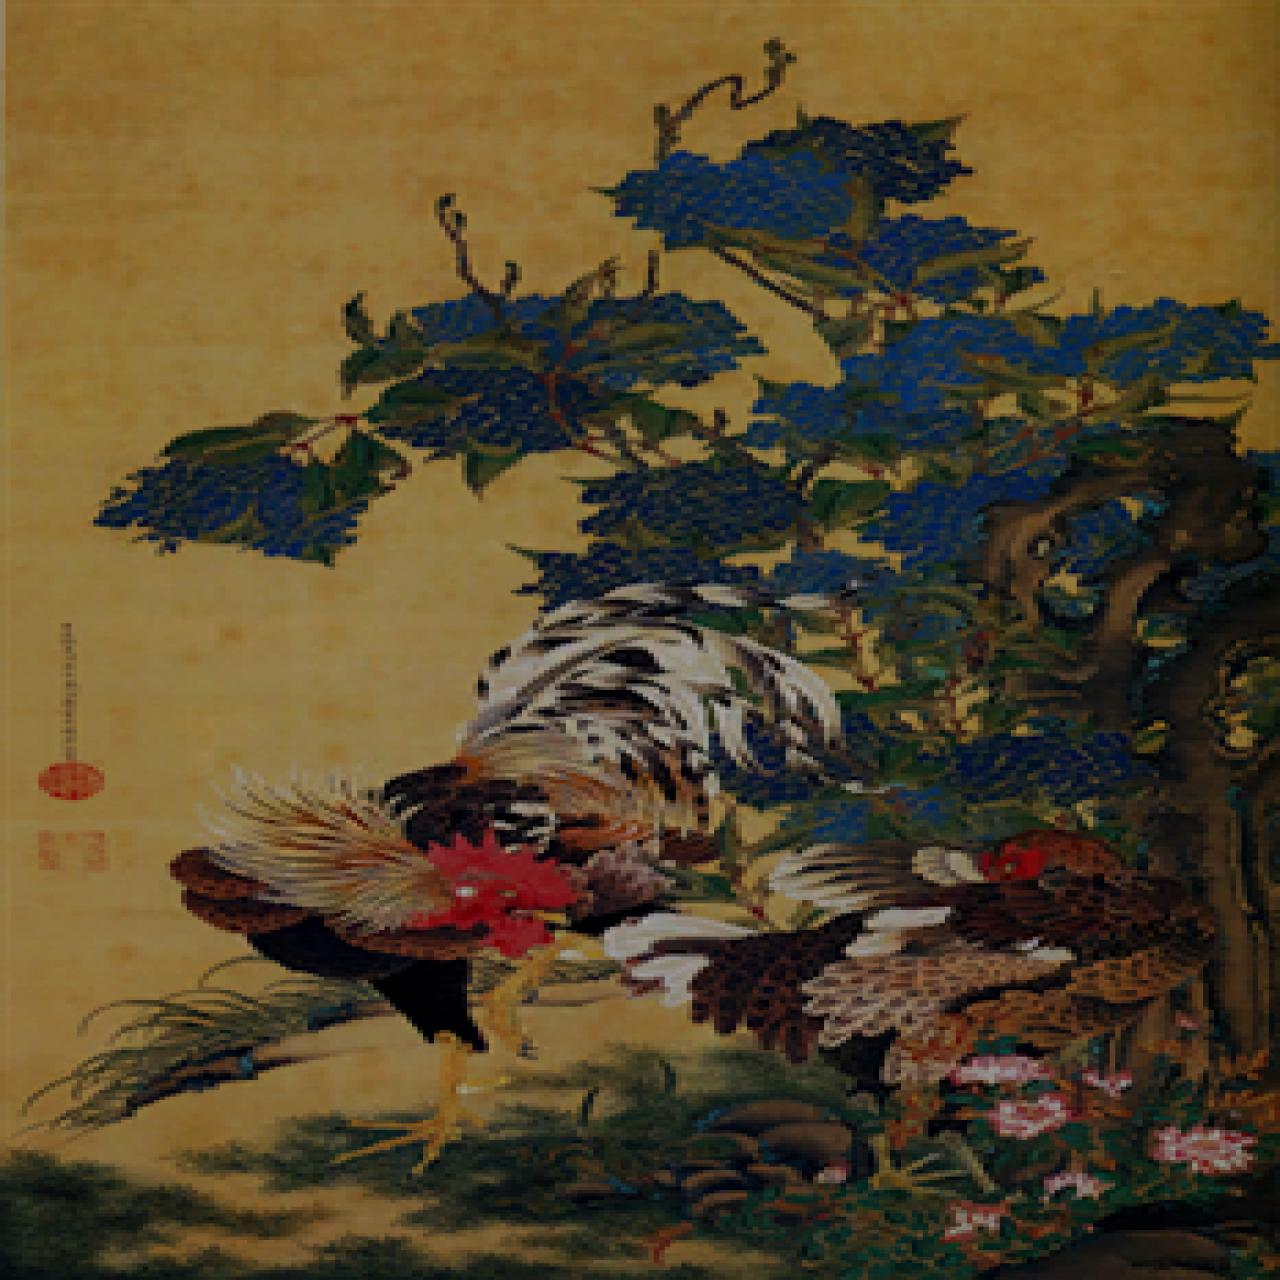Ajisaisoukeizu: (1, 1, 1276, 1278)
